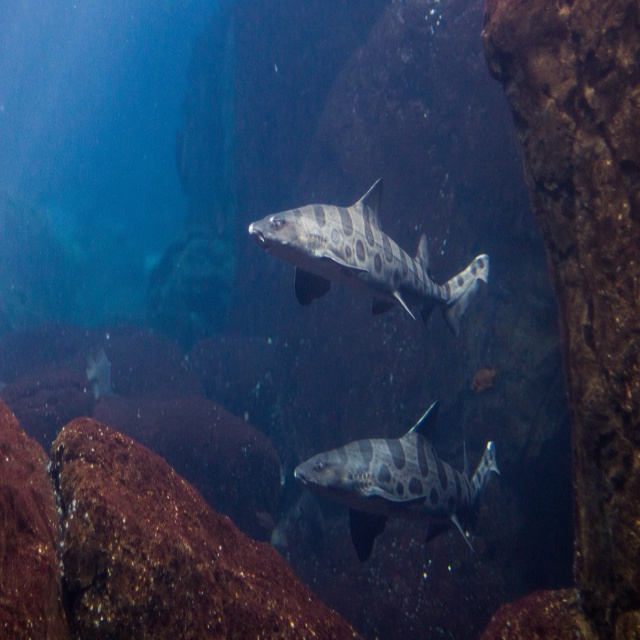Shark: (251, 163, 474, 348), (293, 415, 499, 556)
